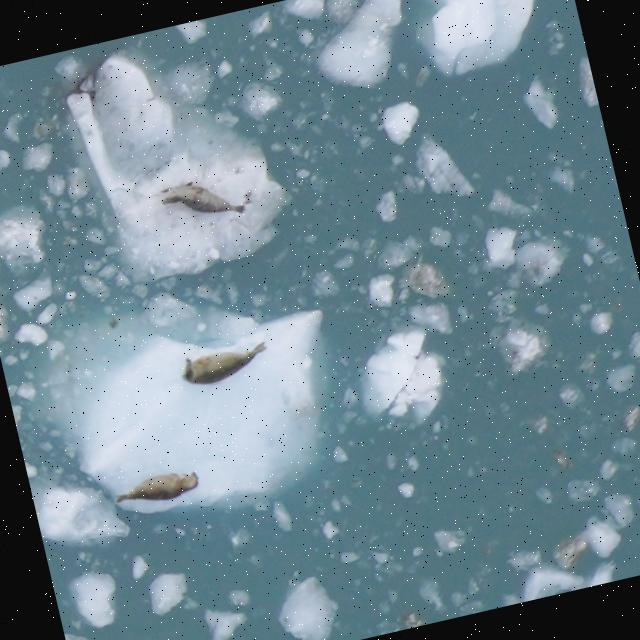seal: (151, 165, 251, 232), (177, 337, 277, 391), (110, 463, 207, 514)
